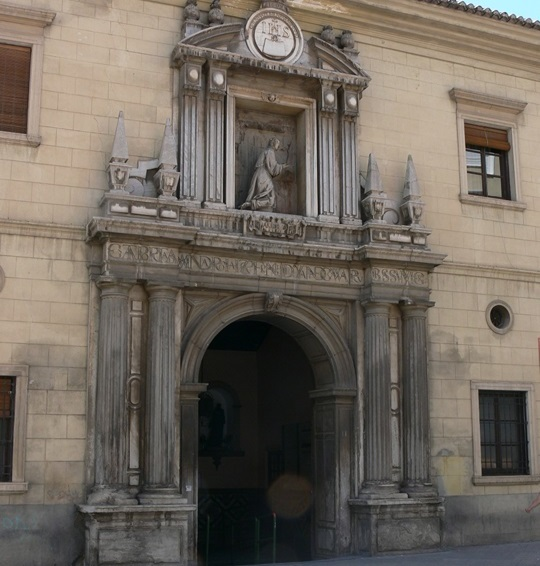arco-medio-punto: (180, 290, 360, 403)
fronton-partido: (172, 20, 375, 89)
ojo-de-buey: (486, 297, 515, 332)
vano-adintelado: (225, 83, 320, 217), (465, 375, 535, 479), (454, 99, 523, 204)
